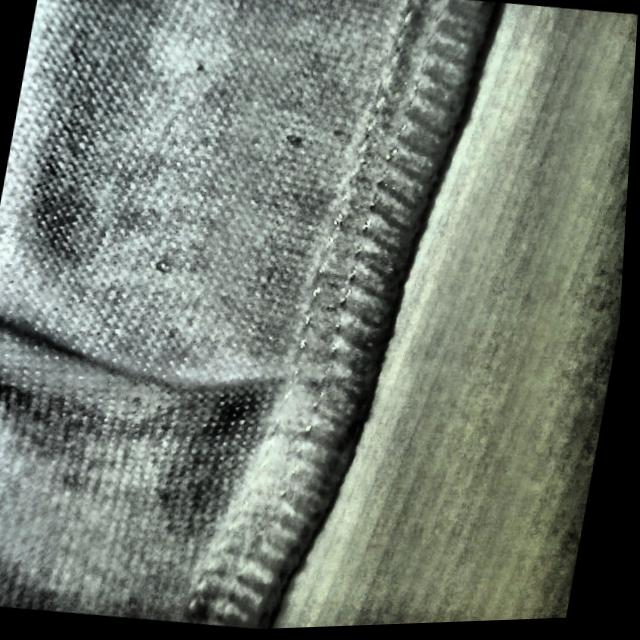seam: (16, 290, 389, 497)
